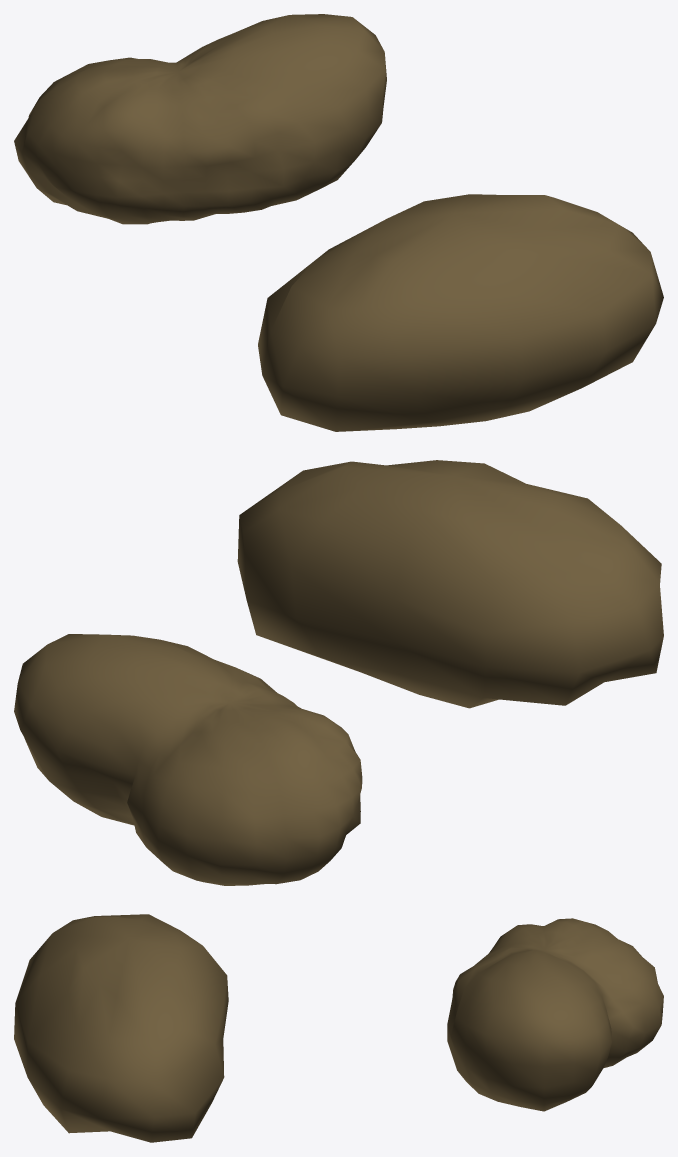
File: new rocks.FBX
The picture shows the model from 3 angles, top to bottom: view 1: azimuth 30°, elevation 25°; view 2: azimuth 150°, elevation 25°; view 3: azimuth 270°, elevation 25°; orthographic projection. The views are drawn at different scales.
Visible parts, largest first — view 1: Sphere002, Sphere001; view 2: Sphere002, Sphere001; view 3: Sphere002, Sphere001.
Part boxes in pixels (x1=…): Sphere002: x1=258, y1=194, x2=663, y2=431; Sphere001: x1=14, y1=14, x2=386, y2=224; Sphere002: x1=237, y1=460, x2=663, y2=708; Sphere001: x1=14, y1=634, x2=362, y2=885; Sphere002: x1=14, y1=914, x2=228, y2=1142; Sphere001: x1=447, y1=918, x2=663, y2=1111.
Bounding box in the file's own units: 65.19 × 31.62 × 113.
